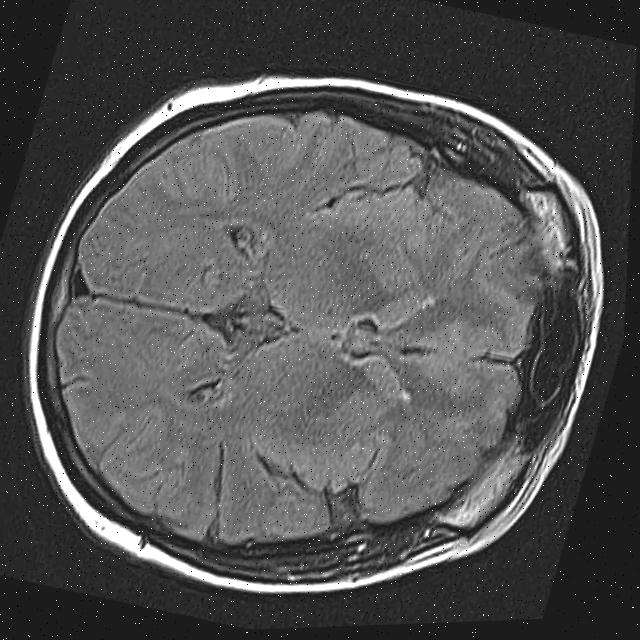NoTumor: (0, 2, 639, 640)
